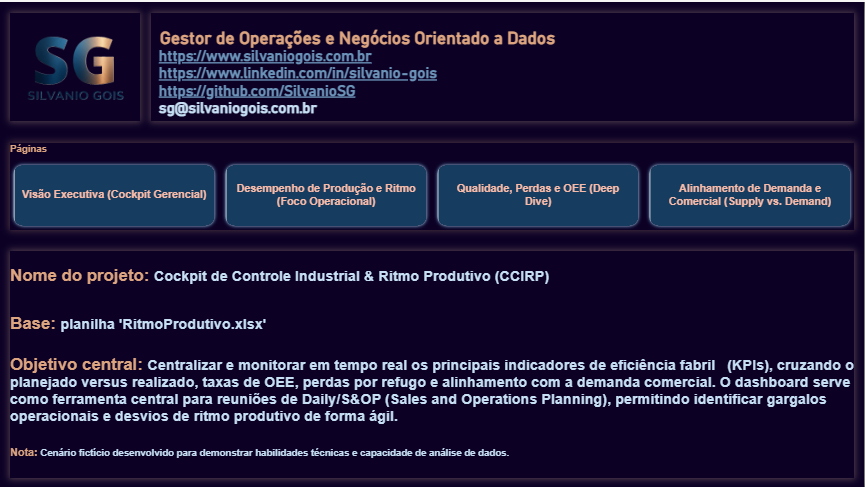

The dashboard page shown, as its layout file describes it:
{"tool":"powerbi","page":{"name":"início","canvas":[1920,1080],"ordinal":0},"visuals":[{"type":"image","box":[24,24,288,240],"z":0},{"type":"textbox","box":[336,24,1560,240],"z":1},{"type":"textbox","box":[24,552,1872,504],"z":2},{"type":"pageNavigator","title":"Páginas","box":[24,312,1872,192],"z":3}]}

Visuals, with their boxes in screenshot pixels (x1, y1, x2, y2), scaled from the page's 1920x1080 canvas onto the 865x487 screenshot:
image: box(11, 11, 141, 119)
textbox: box(151, 11, 854, 119)
textbox: box(11, 249, 854, 476)
"Páginas" pageNavigator: box(11, 141, 854, 227)
